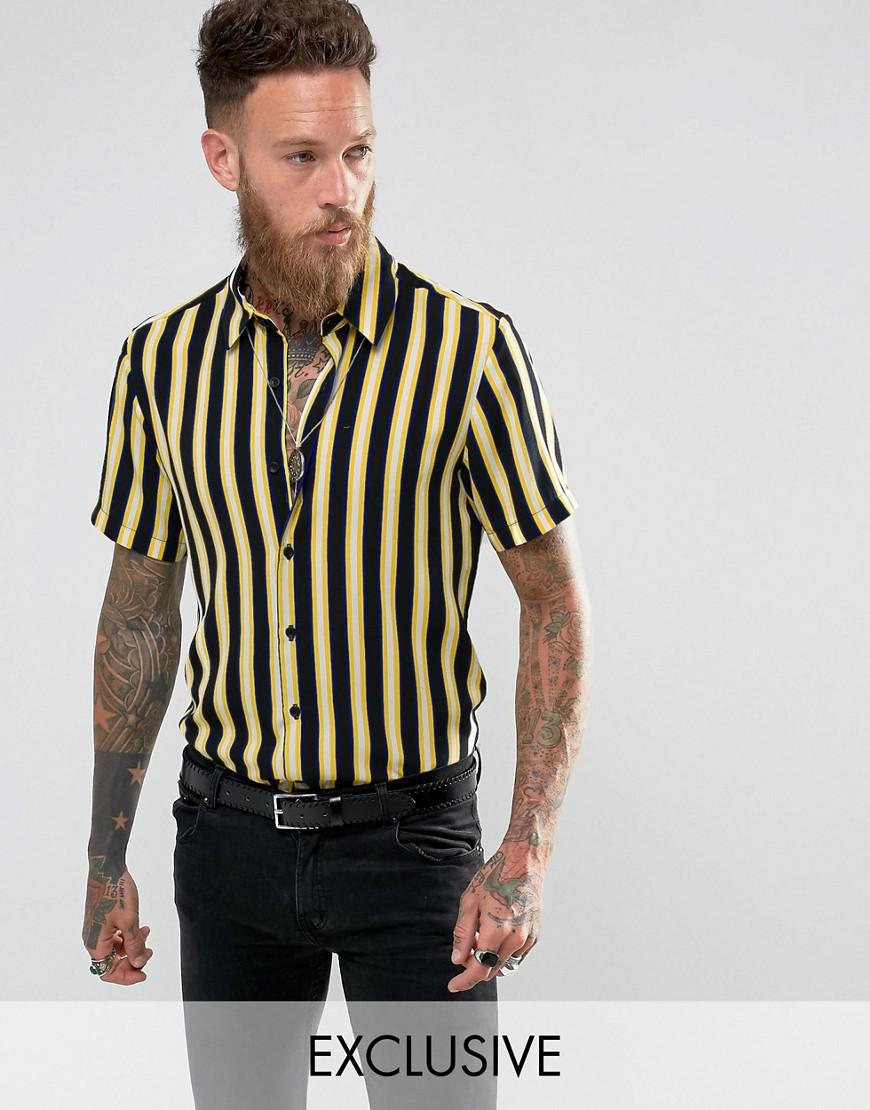teeshirt: (78, 237, 588, 812)
